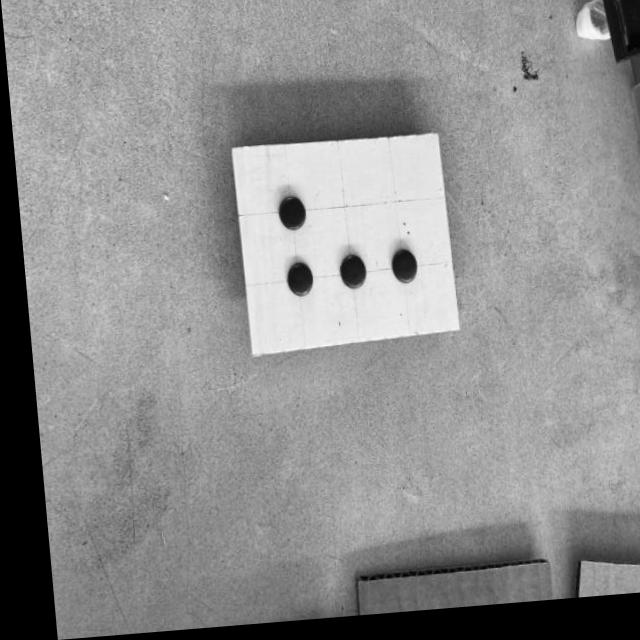braiile: (227, 144, 452, 358)
